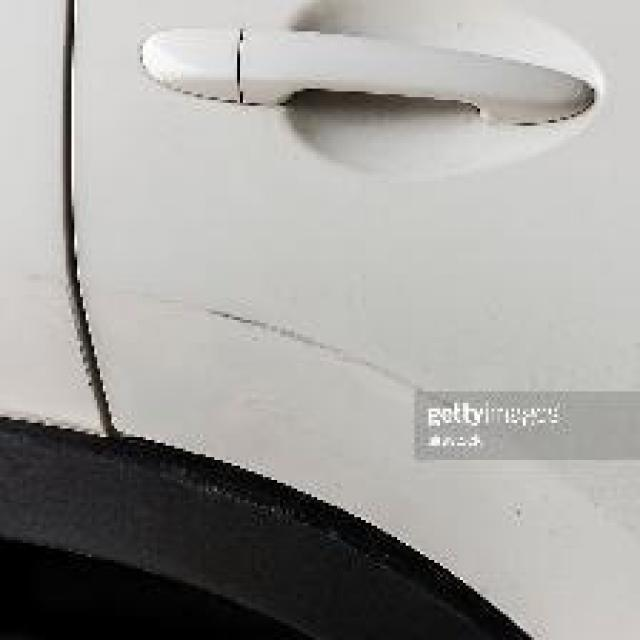damaged: (26, 271, 423, 403)
